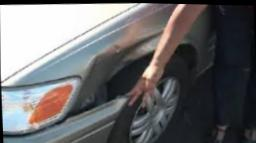Bumper: (3, 98, 127, 143)
Fender: (67, 37, 135, 112)
